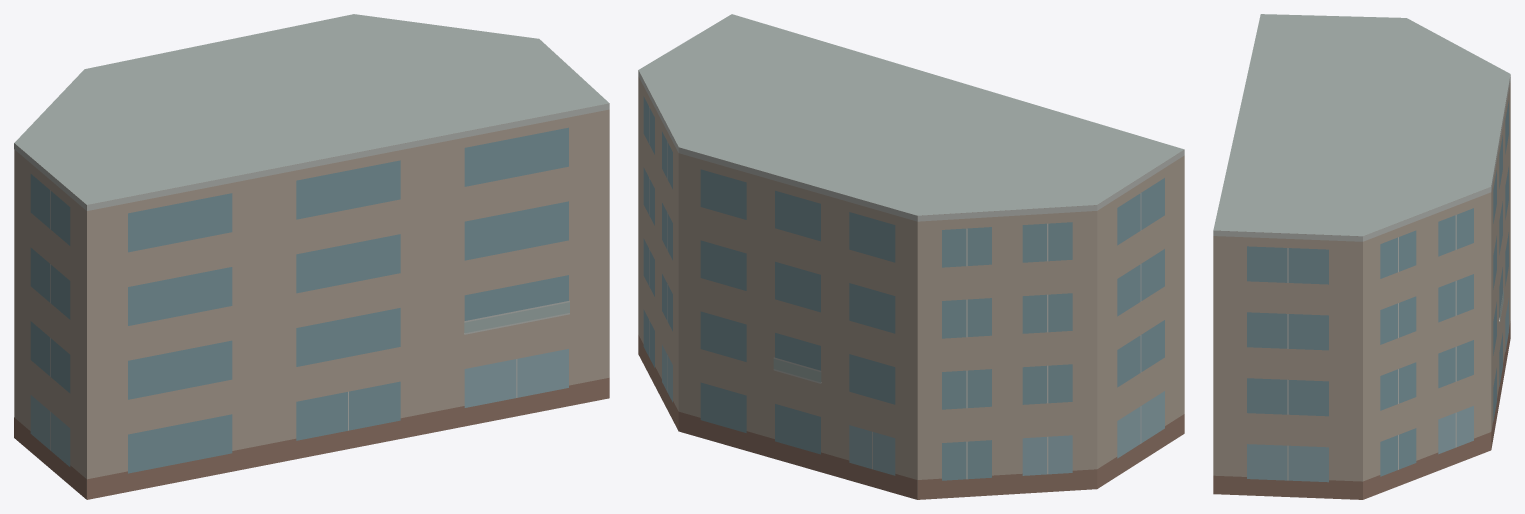
Rendered from survey-upis-32686901.glb.
3 renders of one model, left to right at view 1: azimuth 30°, elevation 25°; view 2: azimuth 150°, elevation 25°; view 3: azimuth 270°, elevation 25°, orthographic. The views are drawn at different scales.
Visible parts, largest first — view 1: survey-upis-32686901.tmp; view 2: survey-upis-32686901.tmp; view 3: survey-upis-32686901.tmp.
Part boxes in pixels (<box>): survey-upis-32686901.tmp: <box>14,14,609,499</box>; survey-upis-32686901.tmp: <box>638,14,1184,499</box>; survey-upis-32686901.tmp: <box>1213,14,1510,499</box>.
Bounding box in the file's own units: 21.17 × 11.7 × 11.97.
